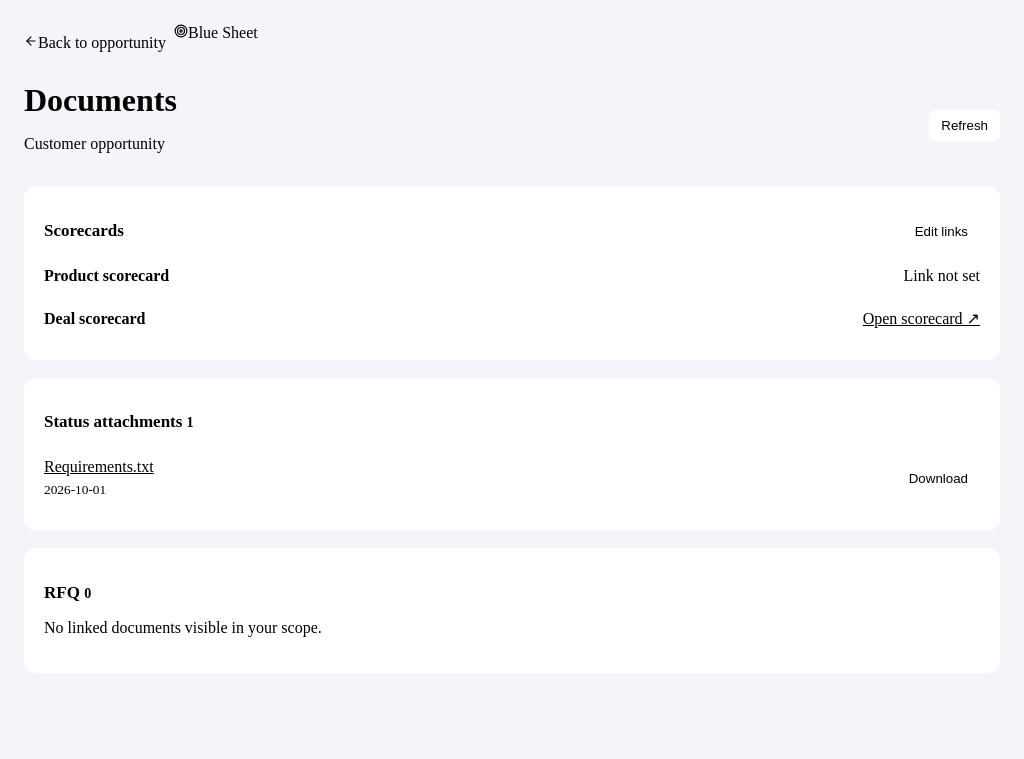
Test: Opportunity document library › shows source records and missing links, retaining the draft on version conflict
Click the button "Edit links": x=941, y=231 [903,216,980,247]
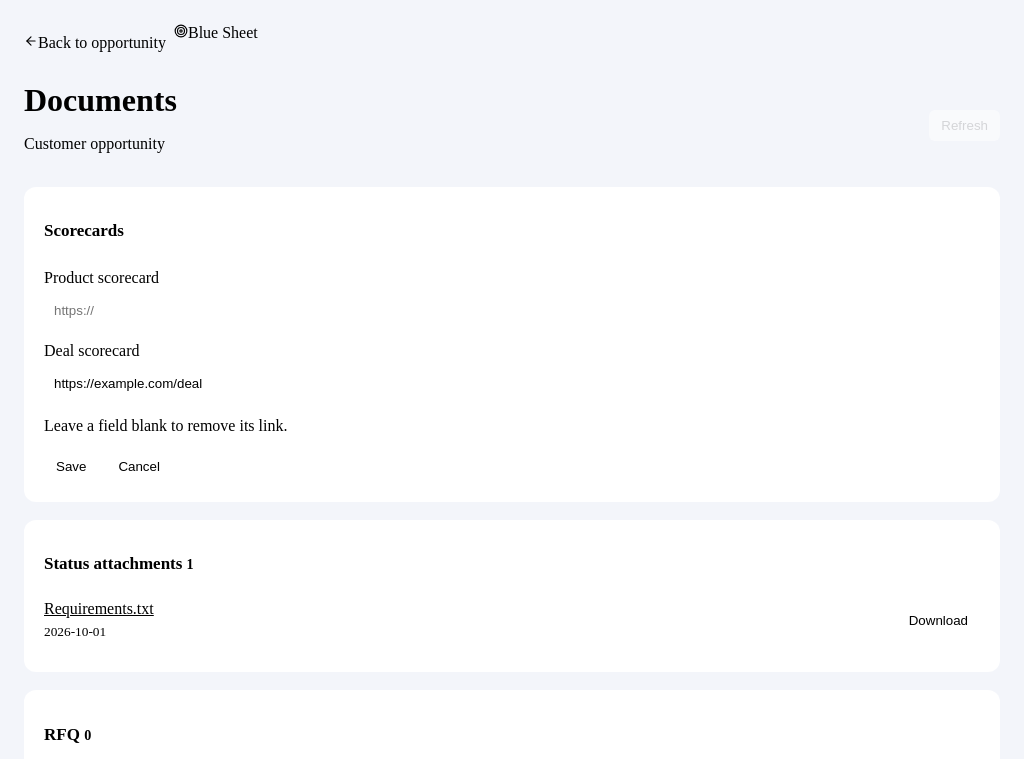
In the field with test id "productScorecard": x=512, y=311 [44,293,980,328], type "https://example.com/product"
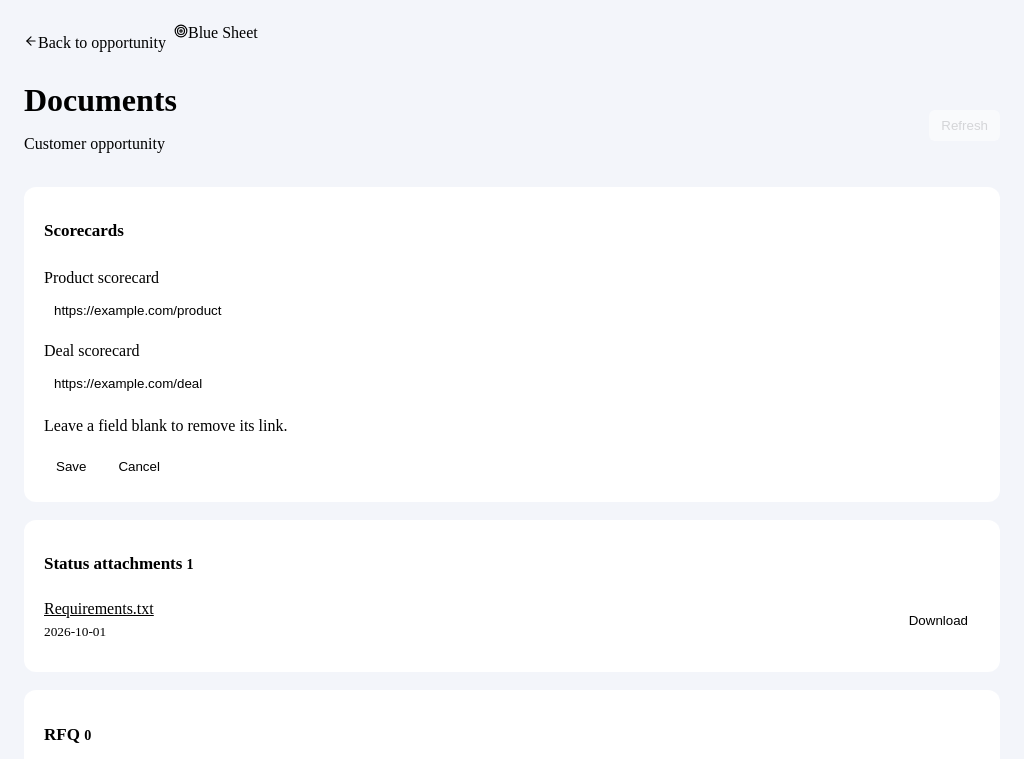
Submit the form, box [44,269,980,482]
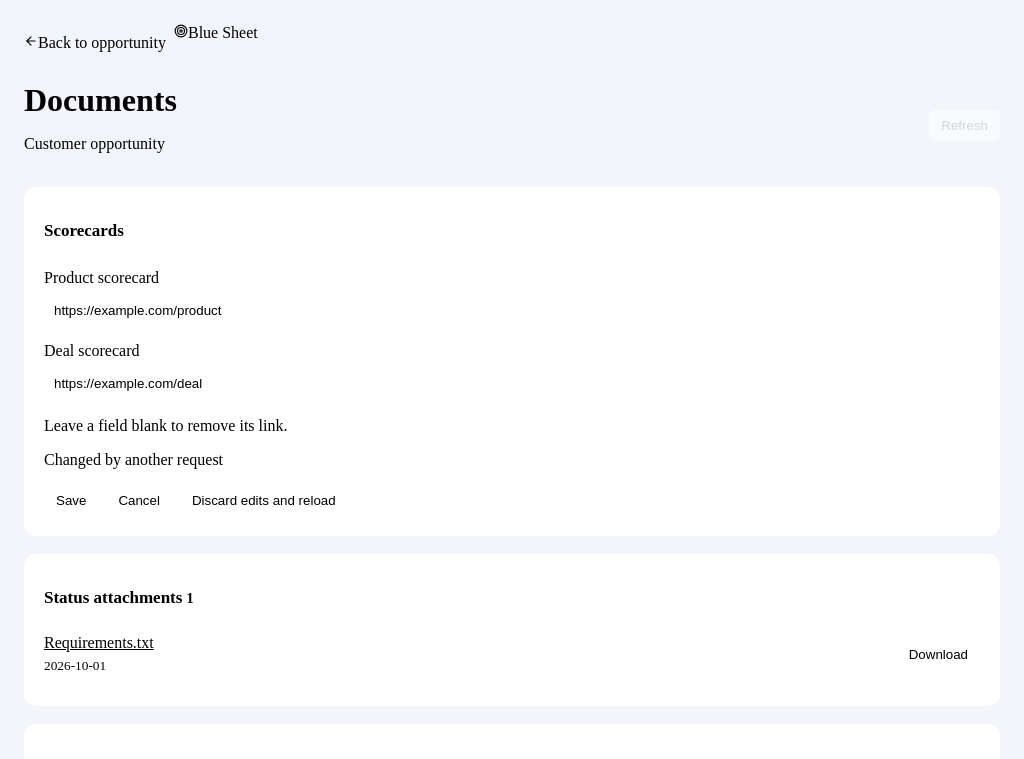
Now the text "Changed by another request" is shown, box [44,451,223,468]
